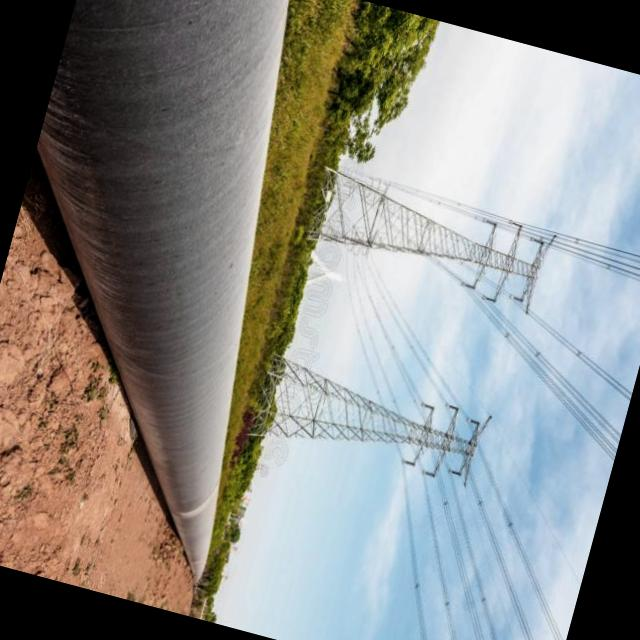gas: (36, 0, 286, 577)
